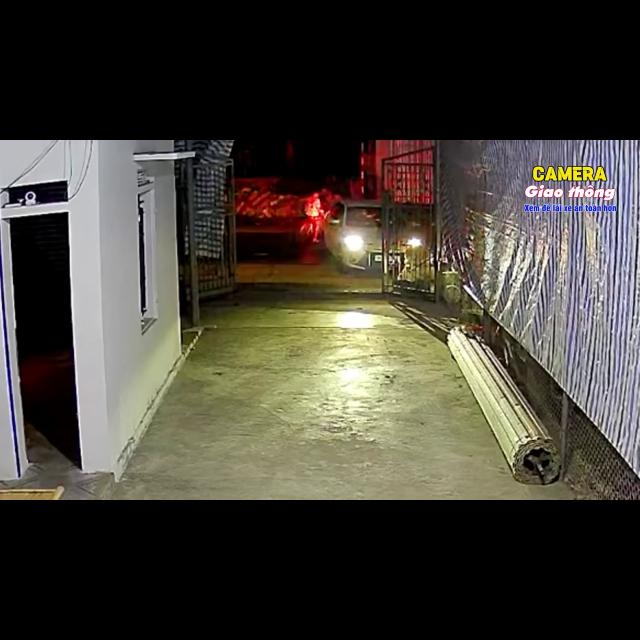car: (388, 221, 429, 267)
